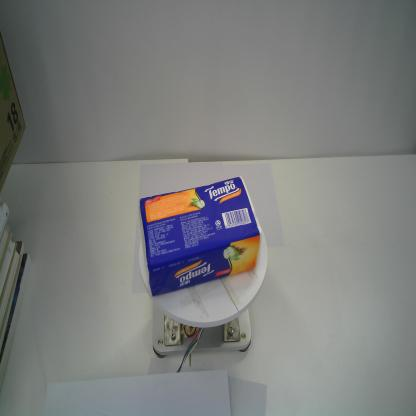Tissue: (137, 174, 264, 302)
